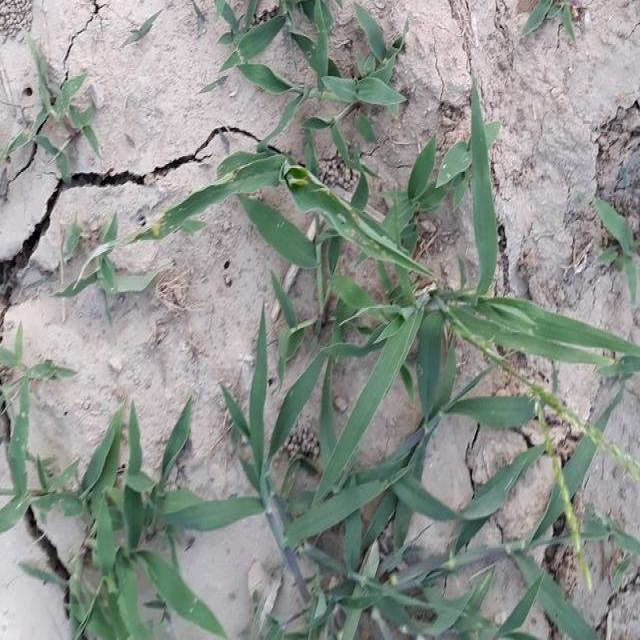weed: (209, 12, 584, 640), (15, 428, 191, 623)
